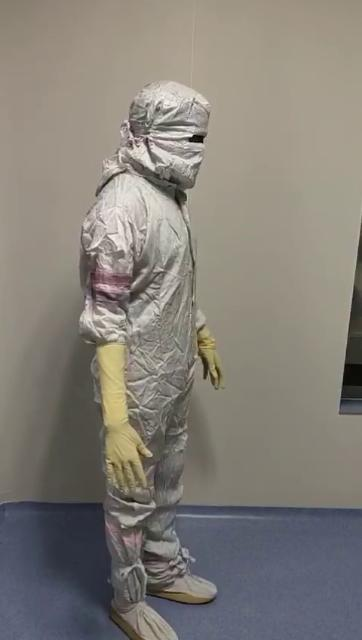boot_not_secured: (142, 502, 216, 616)
boot_secured: (101, 478, 159, 638)
gloves_fitted_securely: (89, 336, 155, 500)
gloves_not_fitted_securely: (176, 298, 244, 418)
headgear_secured: (87, 68, 219, 202)
zip_not_secured: (166, 176, 198, 218)
